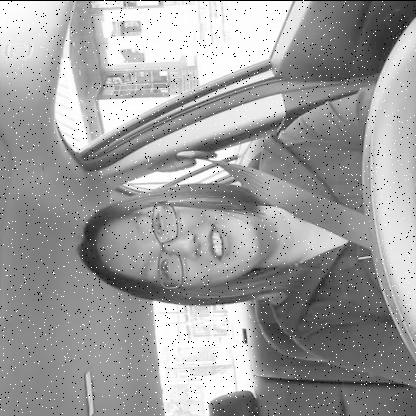seatbelt: (76, 134, 382, 317)
